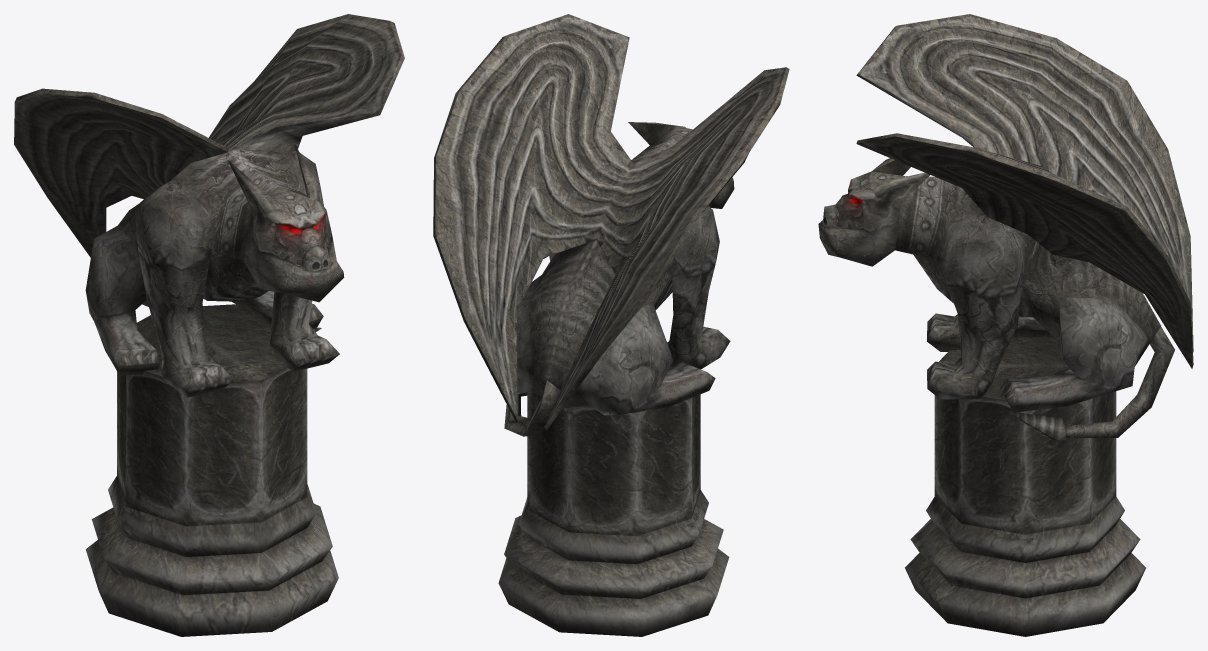
Rendered from statue-Gargoyle-01.FBX.
3 views of the same model, side by side, from view 1: azimuth 30°, elevation 25°; view 2: azimuth 150°, elevation 25°; view 3: azimuth 270°, elevation 25° (orthographic). The views are drawn at different scales.
Visible parts, largest first — view 1: statue-Gargoyle-01; view 2: statue-Gargoyle-01; view 3: statue-Gargoyle-01.
Part boxes in pixels (bbox=[...]): statue-Gargoyle-01: bbox=[14, 14, 404, 636]; statue-Gargoyle-01: bbox=[433, 14, 789, 636]; statue-Gargoyle-01: bbox=[818, 14, 1193, 636].
Size of the model in its own units: 2.82 by 4.74 by 3.16.
